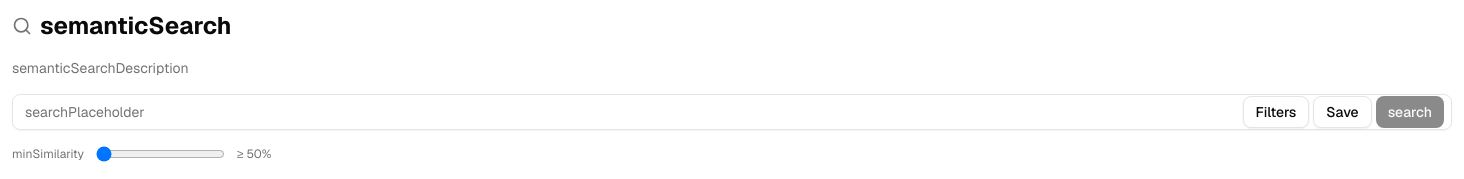
Scenario: SearchBar › Search Input › enables search button when input has text
The width and height of the screenshot is (1464, 179).
In the field with placeholder "searchPlaceholder": (732, 112) [12, 94, 1452, 130], type "test query"
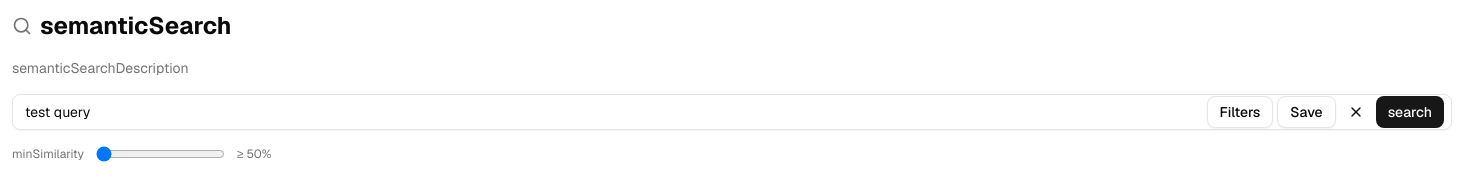
Result: the button "search" is enabled at [1376, 96, 1444, 128]
